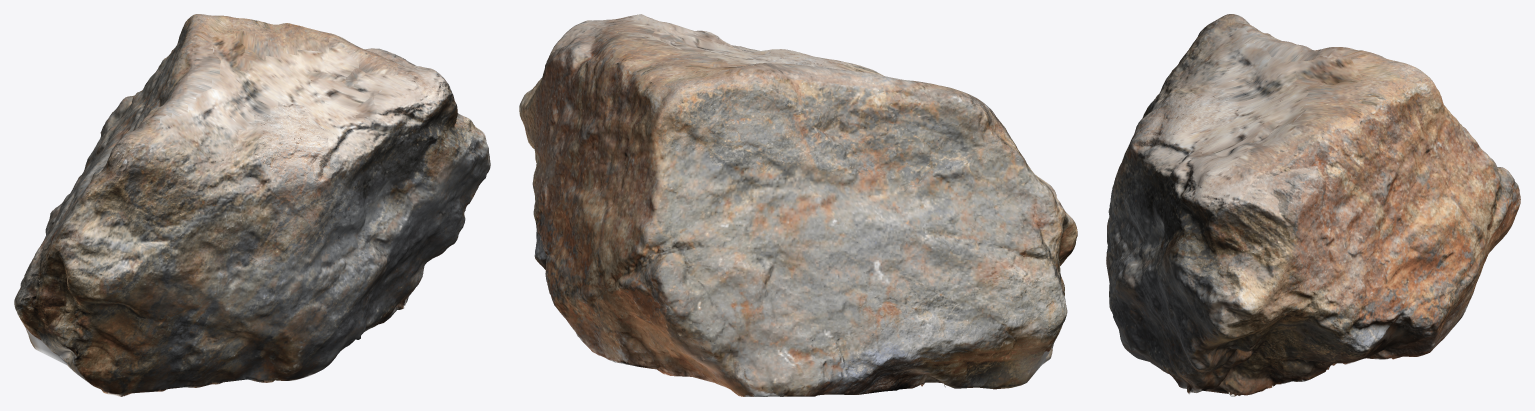
The model's file is sparse3.glb.
3 views of the same model, side by side, from view 1: azimuth 30°, elevation 25°; view 2: azimuth 150°, elevation 25°; view 3: azimuth 270°, elevation 25° (orthographic). The views are drawn at different scales.
Bounding box in the file's own units: 4.89 × 2.75 × 3.47.
Materials: 1 (1 with a texture image).
